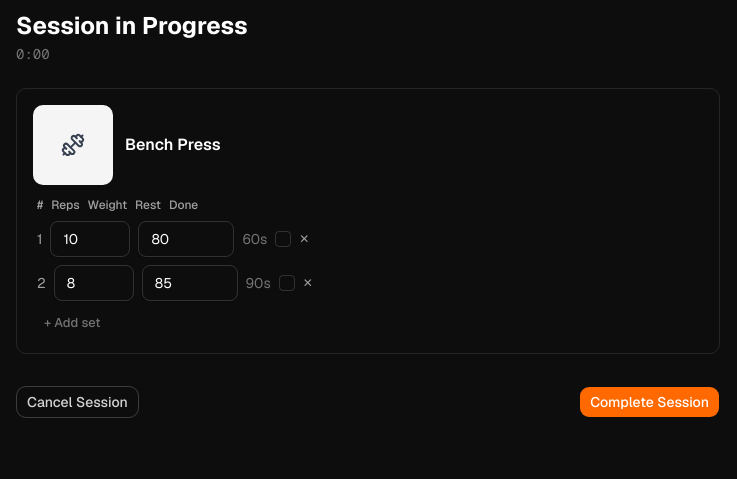
WorkoutInProgressView — adding sets › adds a new set row when + Add set is clicked
Expected: the number of number fields is 4, [50,221,130,257]; [138,221,234,257]; [54,265,134,301]; [142,265,238,301]
Click the button "+ Add set": (72,323) [33,309,111,337]
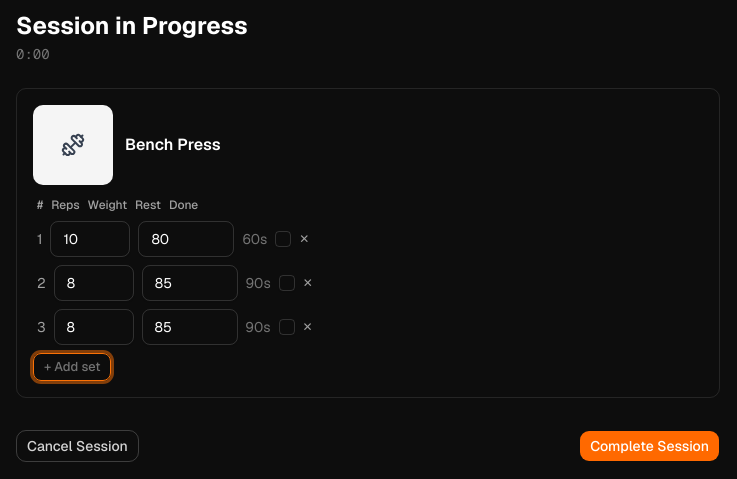
Expected: the number of number fields is 6, [50,221,130,257]; [138,221,234,257]; [54,265,134,301]; [142,265,238,301]; [54,309,134,345]; [142,309,238,345]
